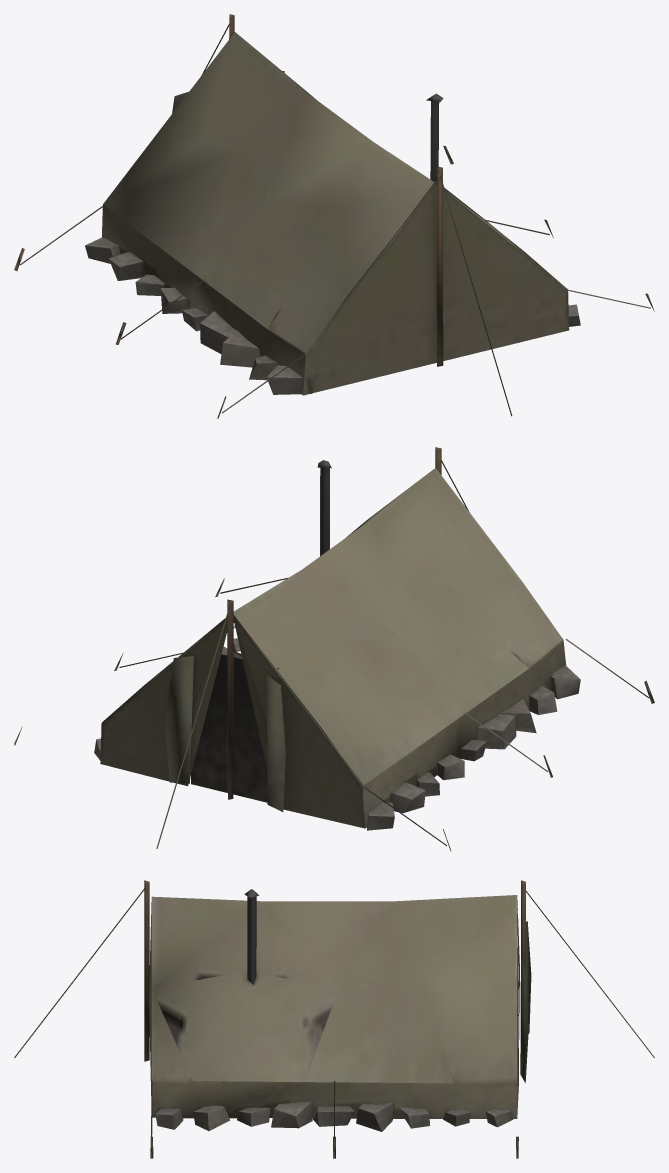
The model's file is tent_lod1.glb.
3 renders of one model, top to bottom at view 1: azimuth 30°, elevation 25°; view 2: azimuth 150°, elevation 25°; view 3: azimuth 270°, elevation 25°, orthographic. The views are drawn at different scales.
Visible parts, largest first — view 1: tent.001; view 2: tent.001; view 3: tent.001.
Part boxes in pixels (x1,y1,x2,y2): tent.001: [14, 14, 654, 418]; tent.001: [14, 447, 654, 851]; tent.001: [14, 880, 654, 1158].
Bounding box in the file's own units: 5.02 × 2.4 × 7.01.
1 material, 1 textured.
